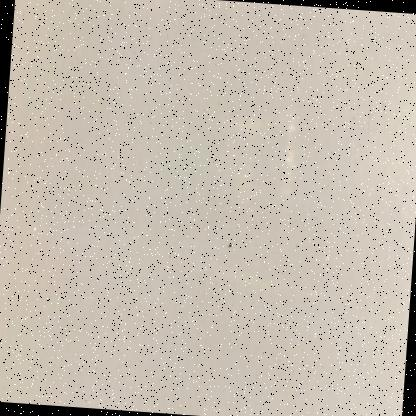Nocrack: (11, 8, 407, 396)
